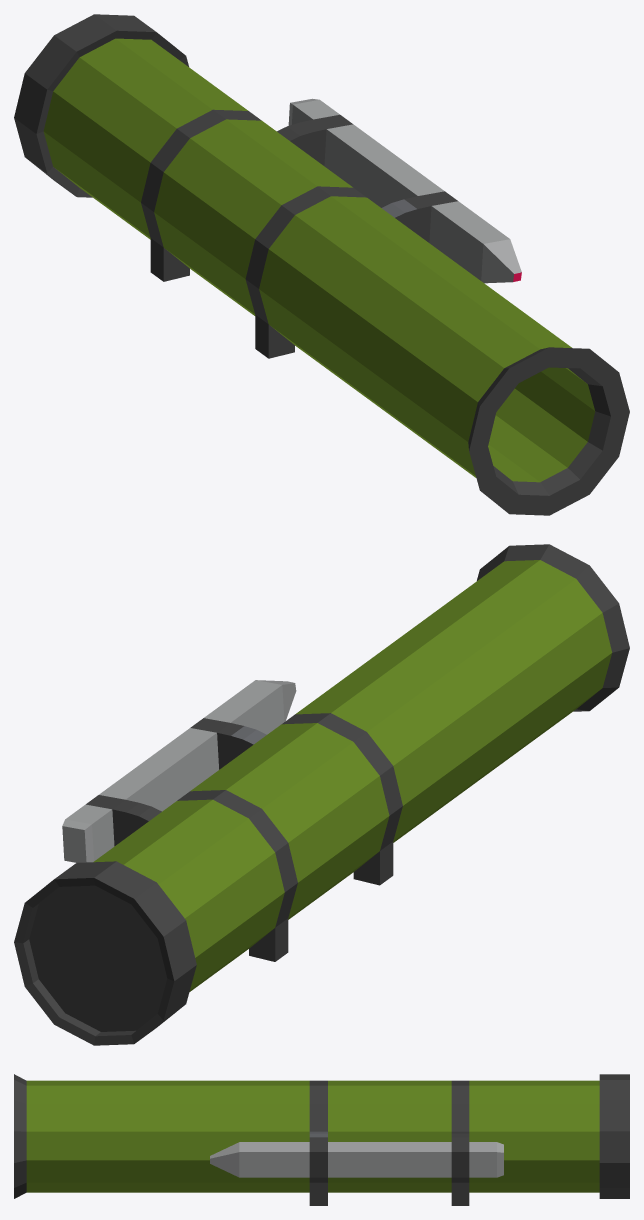
The model's file is RocketLauncher.fbx.
The picture shows the model from 3 angles, top to bottom: view 1: azimuth 30°, elevation 25°; view 2: azimuth 150°, elevation 25°; view 3: azimuth 270°, elevation 25°; orthographic projection. The views are drawn at different scales.
Parts seen in each view (by area): view 1: Launcher; view 2: Launcher; view 3: Launcher.
Boxes of the visible parts, box(x1,y1,x2,y2) form: Launcher: box(14, 14, 629, 515); Launcher: box(14, 544, 629, 1045); Launcher: box(14, 1074, 629, 1205).
Size of the model in its own units: 0.3886 by 0.3008 by 1.47.
